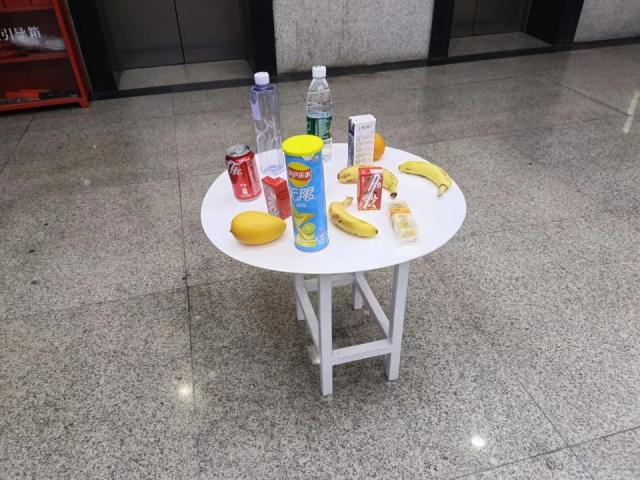Canned_drinks: (222, 142, 264, 202)
bottle: (249, 70, 286, 175), (305, 63, 335, 163)
cylinder: (282, 133, 333, 255)
drink_box: (262, 172, 292, 222), (349, 114, 376, 167), (358, 166, 384, 212)
